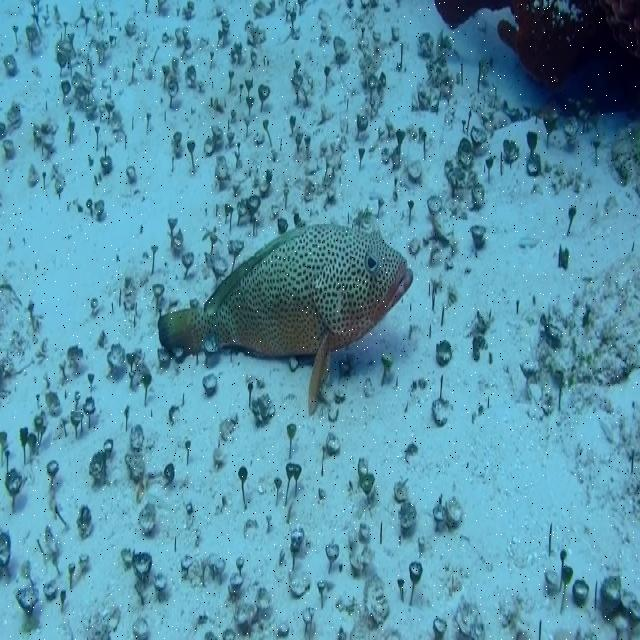fish: (157, 225, 414, 416)
